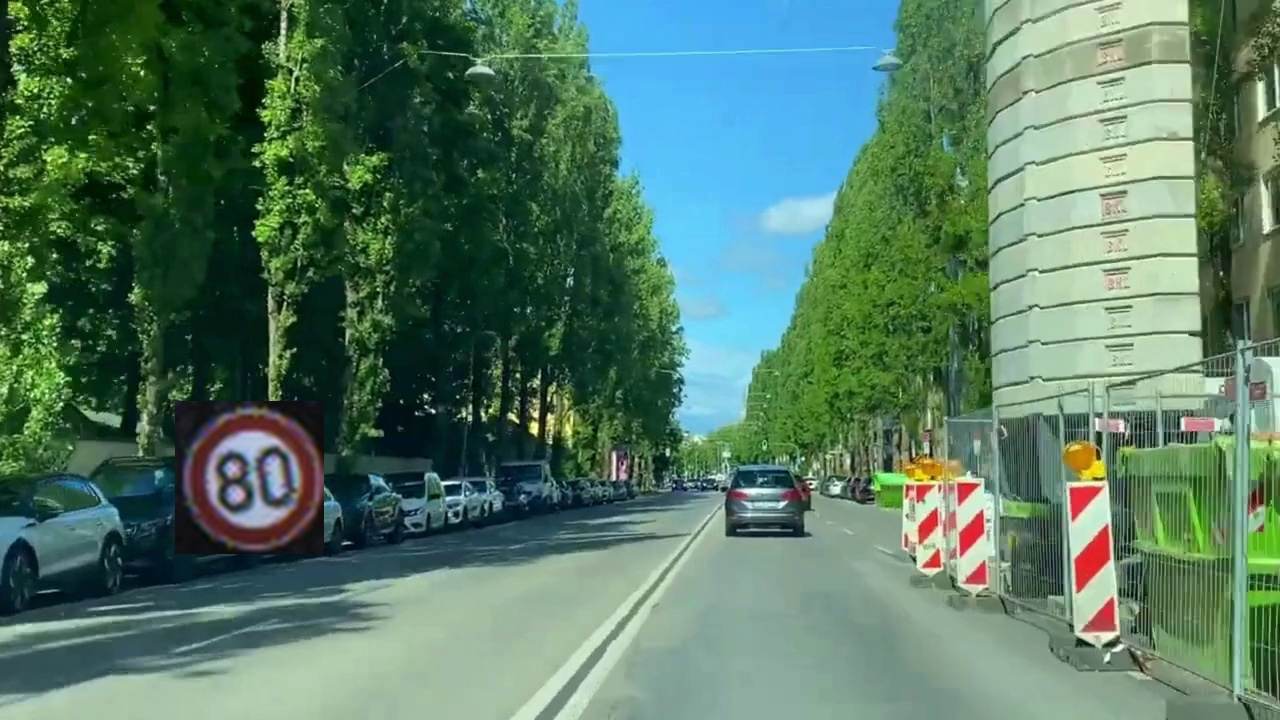Speed 80: (175, 401, 324, 554)
